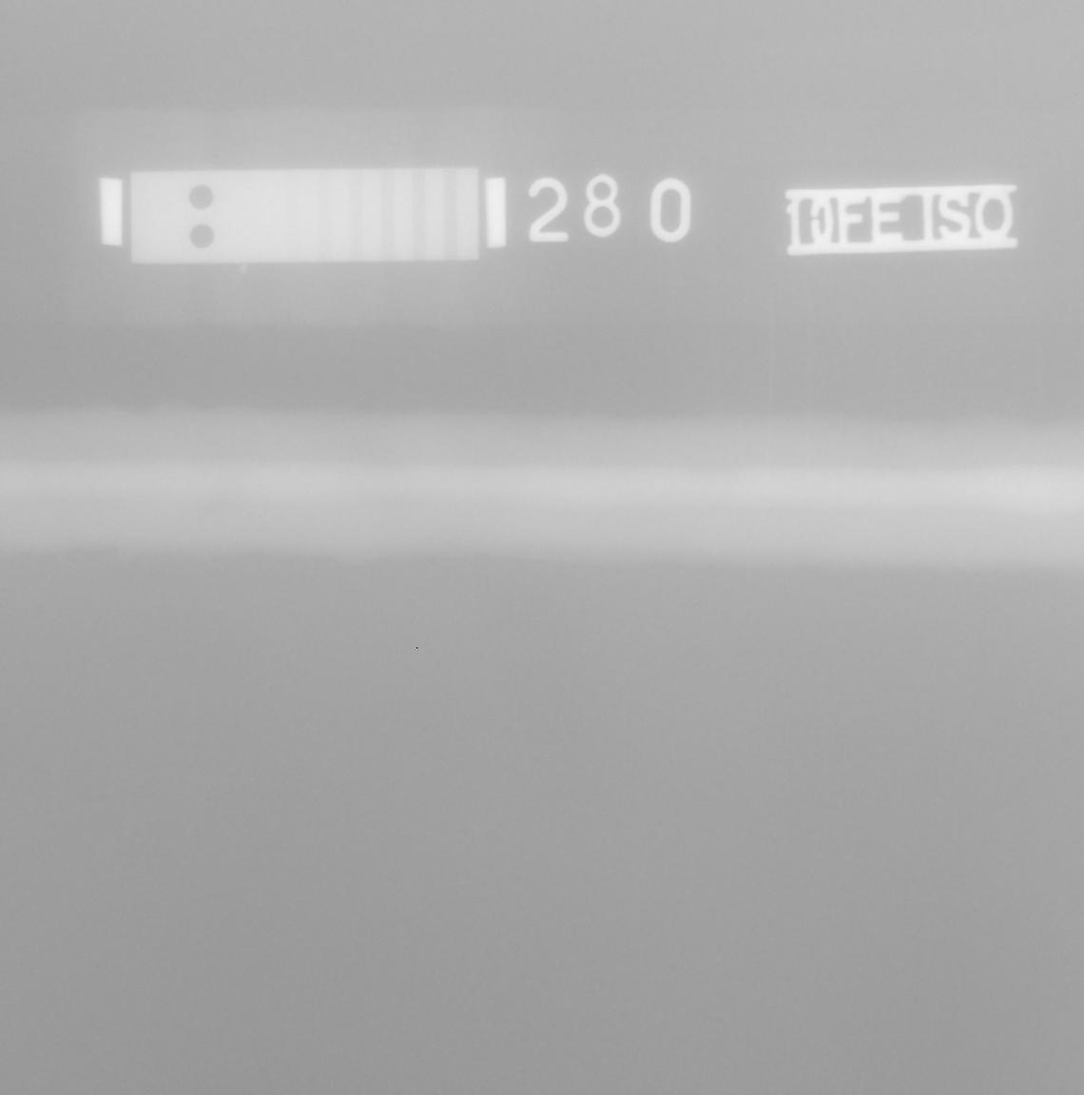Reference Standard 2: (130, 168, 479, 264)
